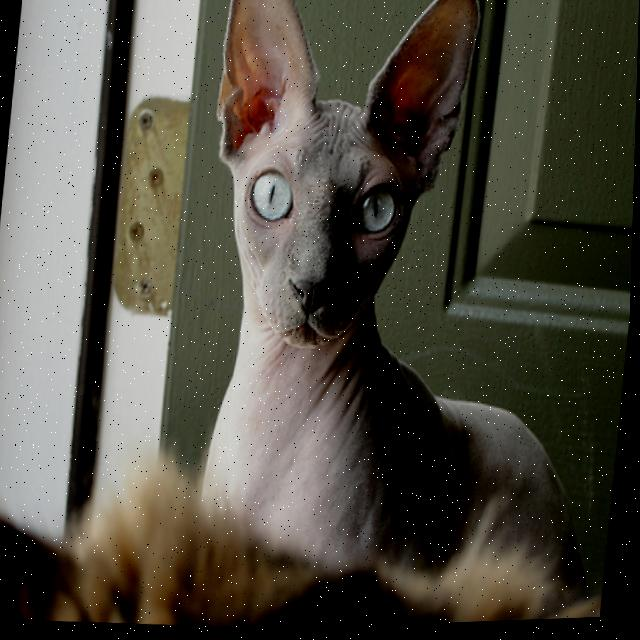Sphynx: (169, 0, 640, 620)
